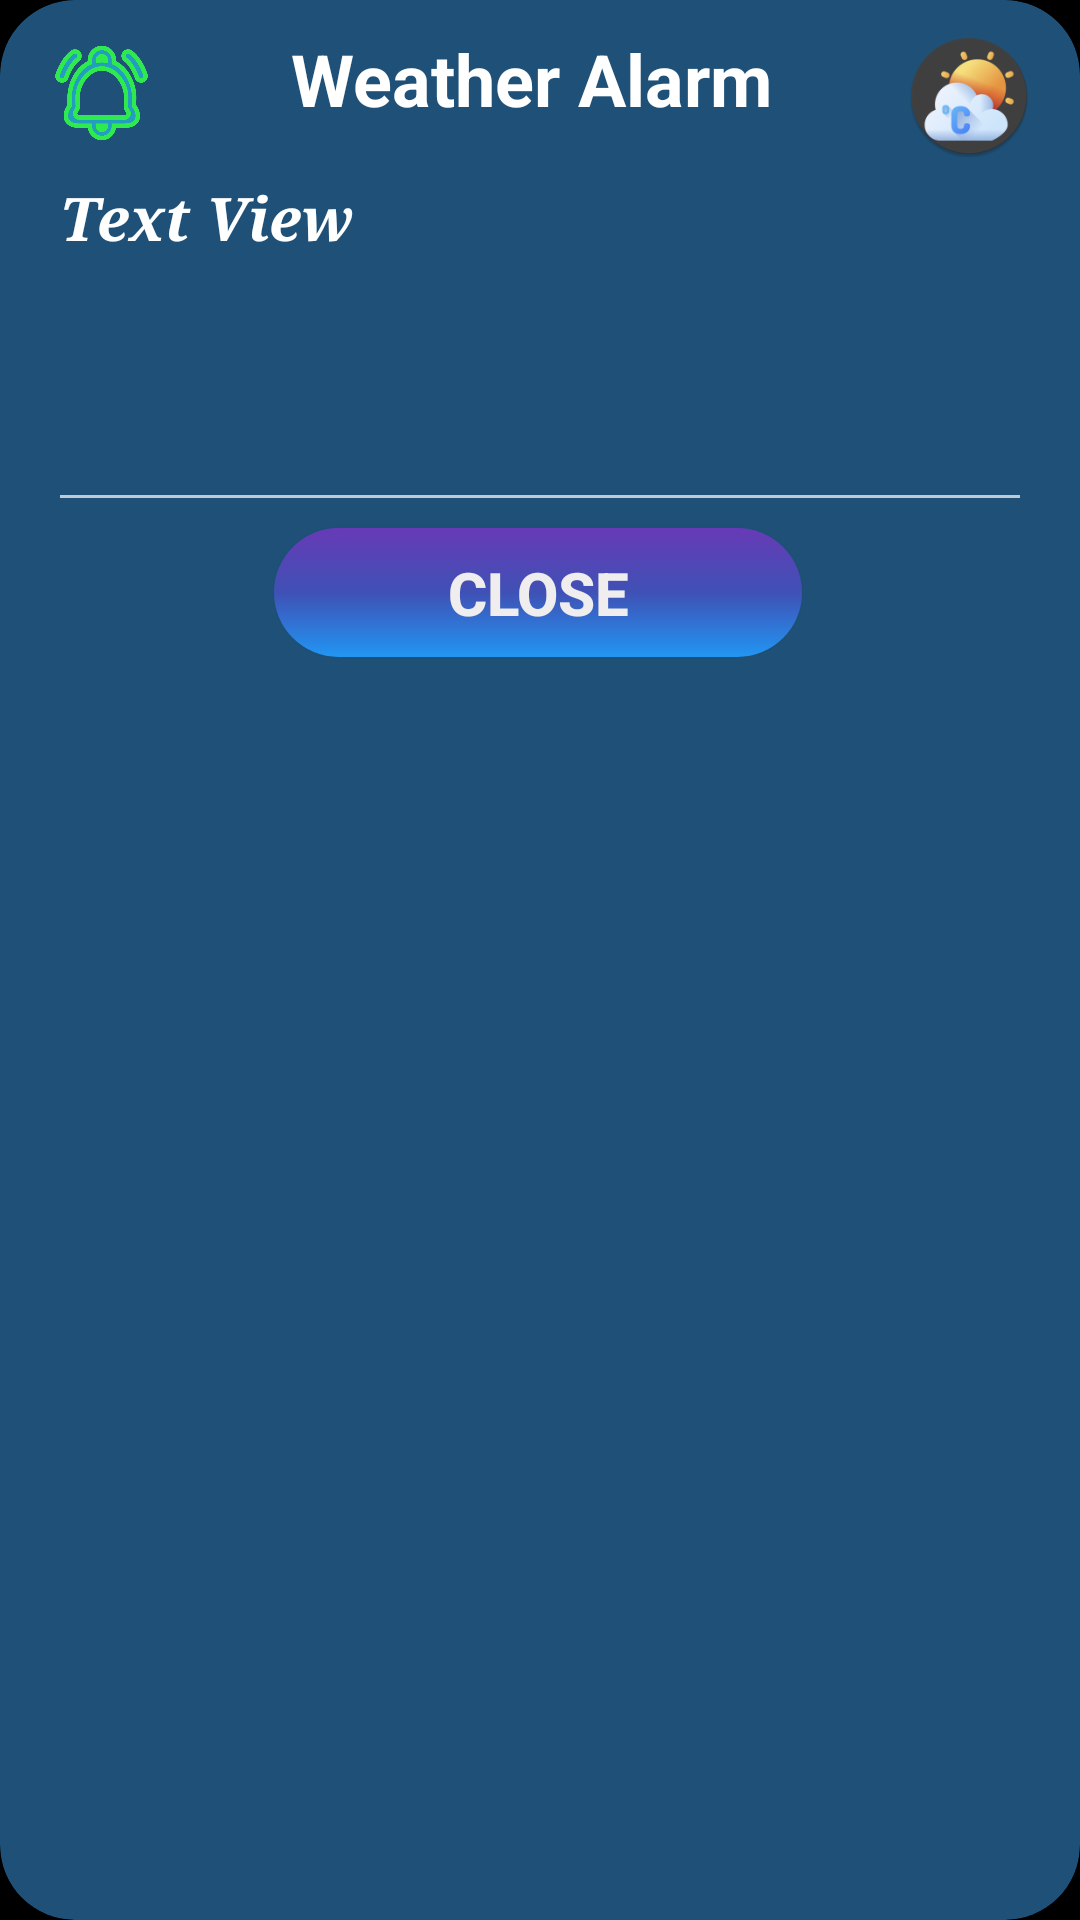

Icon click points for this 1080*1920 phone screenshot, format (x=x, y=y):
notifications alert: (x=101, y=93)
